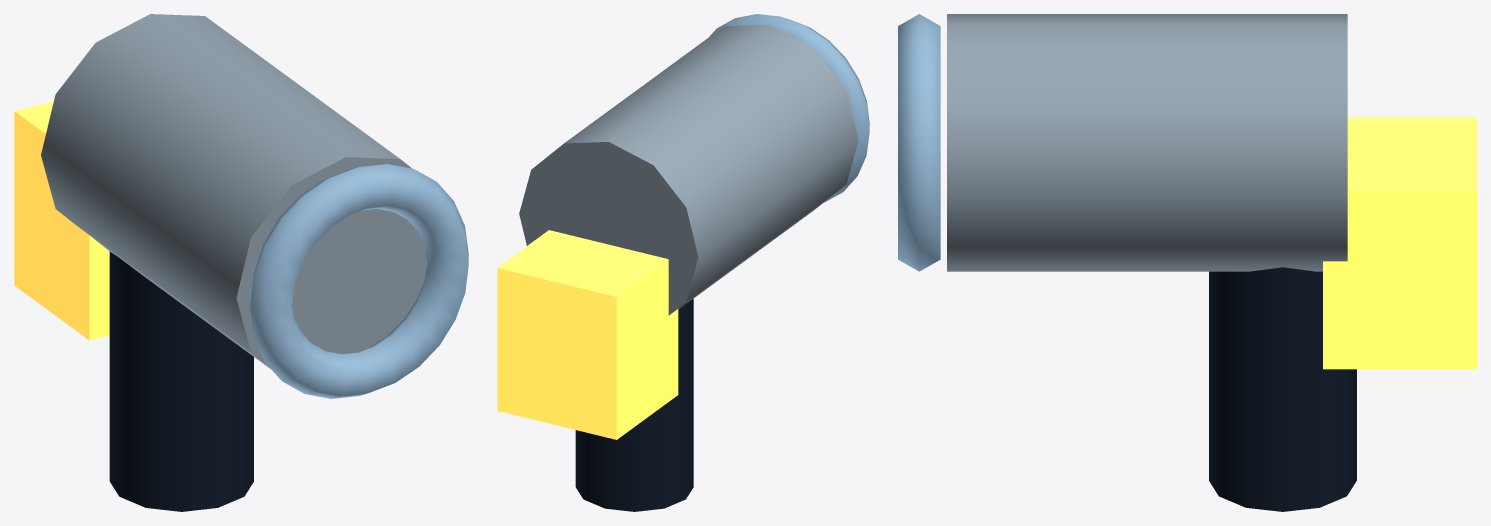
Rendered from device-tether.glb.
The picture shows the model from 3 angles, left to right: view 1: azimuth 30°, elevation 25°; view 2: azimuth 150°, elevation 25°; view 3: azimuth 270°, elevation 25°; orthographic projection. The views are drawn at different scales.
Visible parts, largest first — view 1: tether-barrel, tether-grip, state-light, tether-cell; view 2: tether-barrel, tether-cell, tether-grip, state-light; view 3: tether-barrel, tether-cell, tether-grip, state-light.
Boxes of the visible parts, bbox=[...] form: tether-barrel: bbox=[41, 14, 426, 368]; tether-grip: bbox=[109, 251, 253, 511]; state-light: bbox=[250, 164, 468, 398]; tether-cell: bbox=[14, 101, 109, 340]; tether-barrel: bbox=[519, 24, 858, 315]; tether-cell: bbox=[497, 230, 678, 439]; tether-grip: bbox=[575, 299, 693, 511]; state-light: bbox=[709, 14, 869, 202]; tether-barrel: bbox=[947, 14, 1347, 271]; tether-cell: bbox=[1323, 117, 1476, 369]; tether-grip: bbox=[1209, 267, 1356, 511]; state-light: bbox=[898, 14, 940, 271].
Size of the model in its own units: 0.42 by 0.815 by 0.9396.
